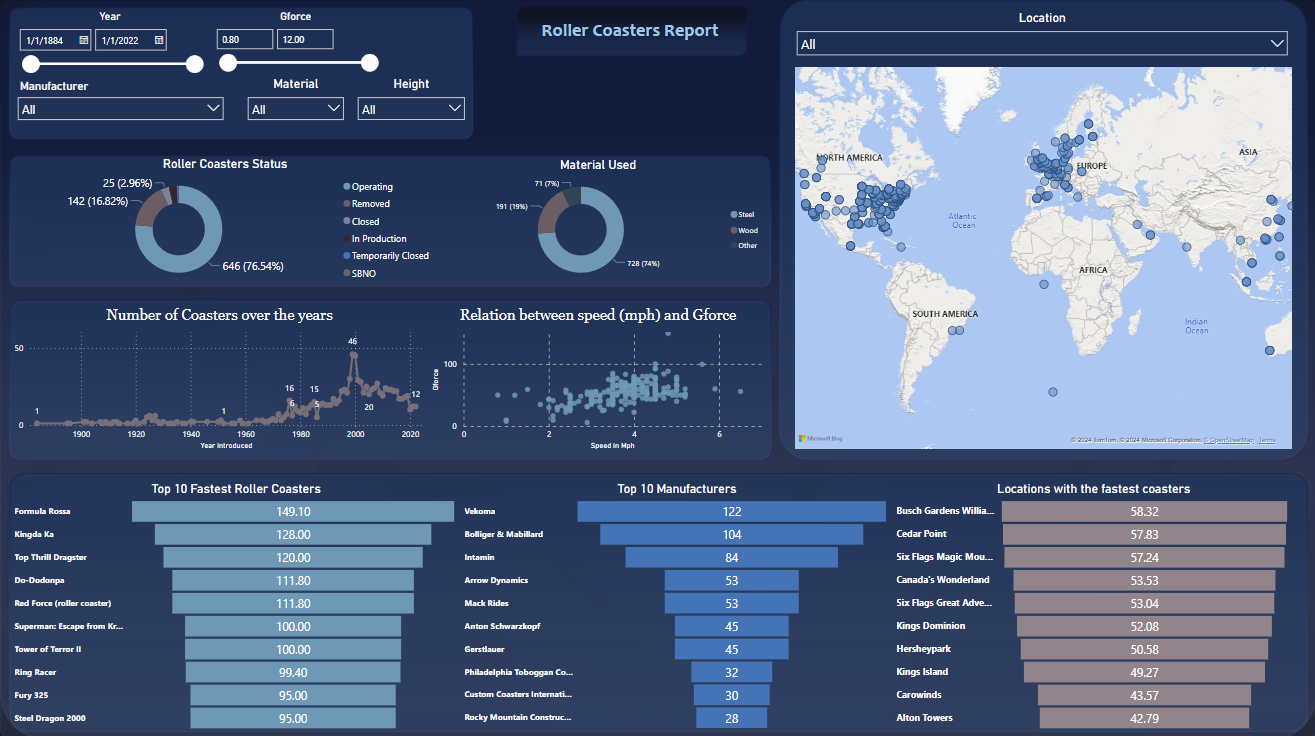

The page's visual inventory and layout, read from the dashboard file:
{"tool":"powerbi","page":{"name":"Page 1","canvas":[1920,1080],"ordinal":0},"visuals":[{"type":"scatterChart","title":"Relation between speed (mph) and Gforce","fields":{"X":["coaster_db2.Gforce"],"Y":["coaster_db2.speed_mph"]},"box":[624.4,447.9,496,214.5],"z":0},{"type":"slicer","title":"Location","fields":{"Values":["coaster_db2.Location"]},"box":[1152,16,736,80],"z":1000},{"type":"funnel","title":"Top 10 Fastest Roller Coasters","fields":{"Category":["coaster_db2.Coaster_Name"],"Y":["Max(coaster_db2.speed_mph)"]},"box":[16,703.2,656.5,369.1],"z":2000},{"type":"lineChart","title":"Number of Coasters over the years","fields":{"Category":["coaster_db2.Year_Introduced"],"Y":["CountNonNull(coaster_db2.Year_Introduced)"]},"box":[16,447.9,608.4,214.5],"z":3000},{"type":"funnel","title":"Locations with the fastest coasters","fields":{"Category":["coaster_db2.Location"],"Y":["Avg(coaster_db2.speed_mph)"]},"box":[1302.9,703.2,585,369.1],"z":4000},{"type":"map","fields":{"Y":["coaster_db2.latitude"],"X":["coaster_db2.longitude"]},"box":[1155.5,94.8,735.3,566.1],"z":5000},{"type":"donutChart","title":"Material Used","fields":{"Category":["coaster_db2.Type_Main"],"Y":["CountNonNull(coaster_db2.Type_Main)"]},"box":[624.4,230.5,496,191.1],"z":6000},{"type":"slicer","title":"Year","fields":{"Values":["coaster_db2.Year_Introduced"]},"box":[15.5,15.5,288.5,97],"z":7000},{"type":"slicer","title":"Height","fields":{"Values":["coaster_db2.Height_Restriction"]},"box":[512,112,176,80],"z":8000},{"type":"slicer","title":"Material","fields":{"Values":["coaster_db2.Type_Main"]},"box":[352,112,160,64],"z":9000},{"type":"textbox","box":[742.6,23.3,353.1,64.2],"z":10000},{"type":"slicer","title":"Gforce","fields":{"Values":["coaster_db2.Gforce"]},"box":[304,15.5,256.2,97],"z":11000},{"type":"slicer","fields":{"Values":["coaster_db2.Manufacturer"]},"box":[16,112,320,80],"z":12000},{"type":"funnel","title":"Top 10 Manufacturers","fields":{"Category":["coaster_db2.Manufacturer"],"Y":["CountNonNull(coaster_db2.Coaster_Name)"]},"box":[672.8,703.8,630.1,368.7],"z":13000},{"type":"donutChart","title":"Roller Coasters Status","fields":{"Category":["coaster_db2.Status"],"Y":["CountNonNull(coaster_db2.Status)"]},"box":[16,229.1,624.4,192.6],"z":14000}]}

Visuals, with their boxes in screenshot pixels (x1, y1, x2, y2), scaled from the page's 1920x1080 canvas onto the 1315x736 screenshot:
"Relation between speed (mph) and Gforce" scatterChart: bbox=[428, 305, 767, 451]
"Location" slicer: bbox=[789, 11, 1293, 65]
"Top 10 Fastest Roller Coasters" funnel: bbox=[11, 479, 461, 731]
"Number of Coasters over the years" lineChart: bbox=[11, 305, 428, 451]
"Locations with the fastest coasters" funnel: bbox=[892, 479, 1293, 731]
map - coaster_db2.latitude x coaster_db2.longitude: bbox=[791, 65, 1295, 450]
"Material Used" donutChart: bbox=[428, 157, 767, 287]
"Year" slicer: bbox=[11, 11, 208, 77]
"Height" slicer: bbox=[351, 76, 471, 131]
"Material" slicer: bbox=[241, 76, 351, 120]
textbox: bbox=[509, 16, 750, 60]
"Gforce" slicer: bbox=[208, 11, 384, 77]
slicer - coaster_db2.Manufacturer: bbox=[11, 76, 230, 131]
"Top 10 Manufacturers" funnel: bbox=[461, 480, 892, 731]
"Roller Coasters Status" donutChart: bbox=[11, 156, 439, 287]
